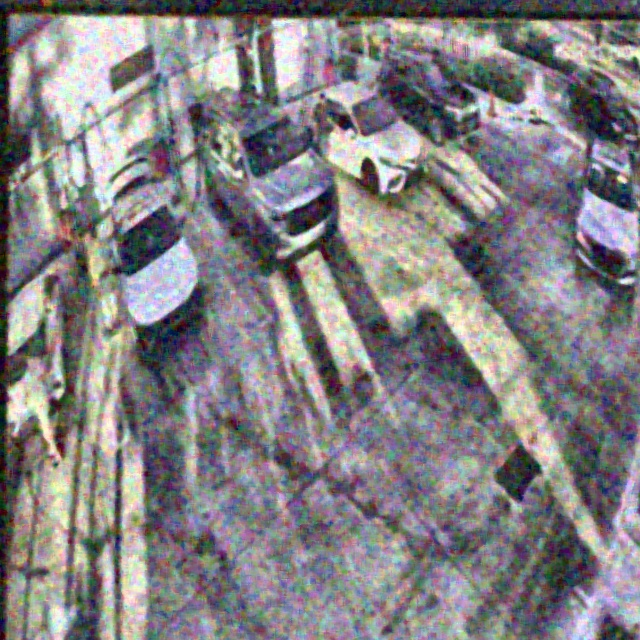Car: (200, 94, 339, 275), (104, 153, 203, 361), (317, 80, 427, 198)
